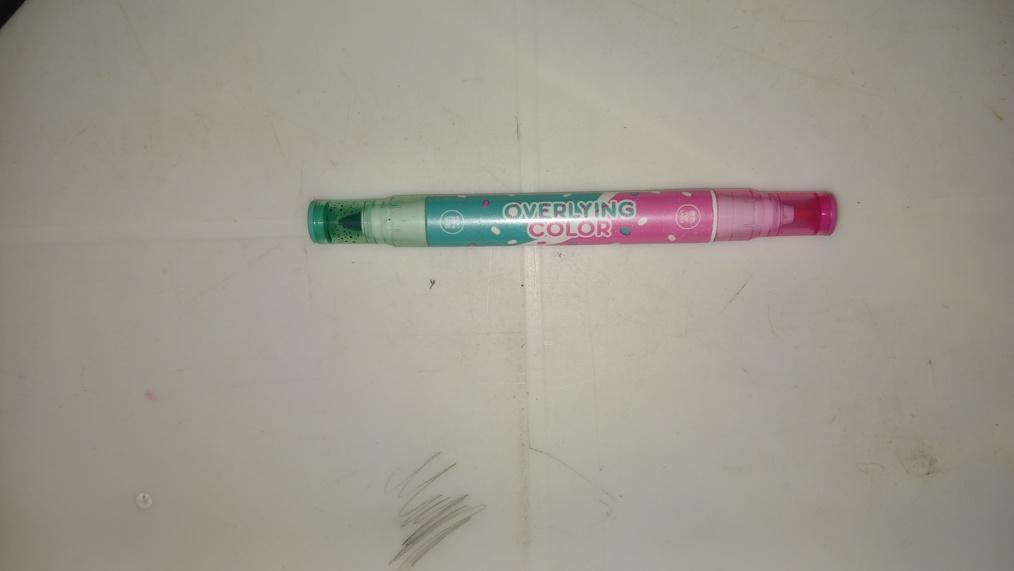Highlighter: (309, 189, 837, 251)
